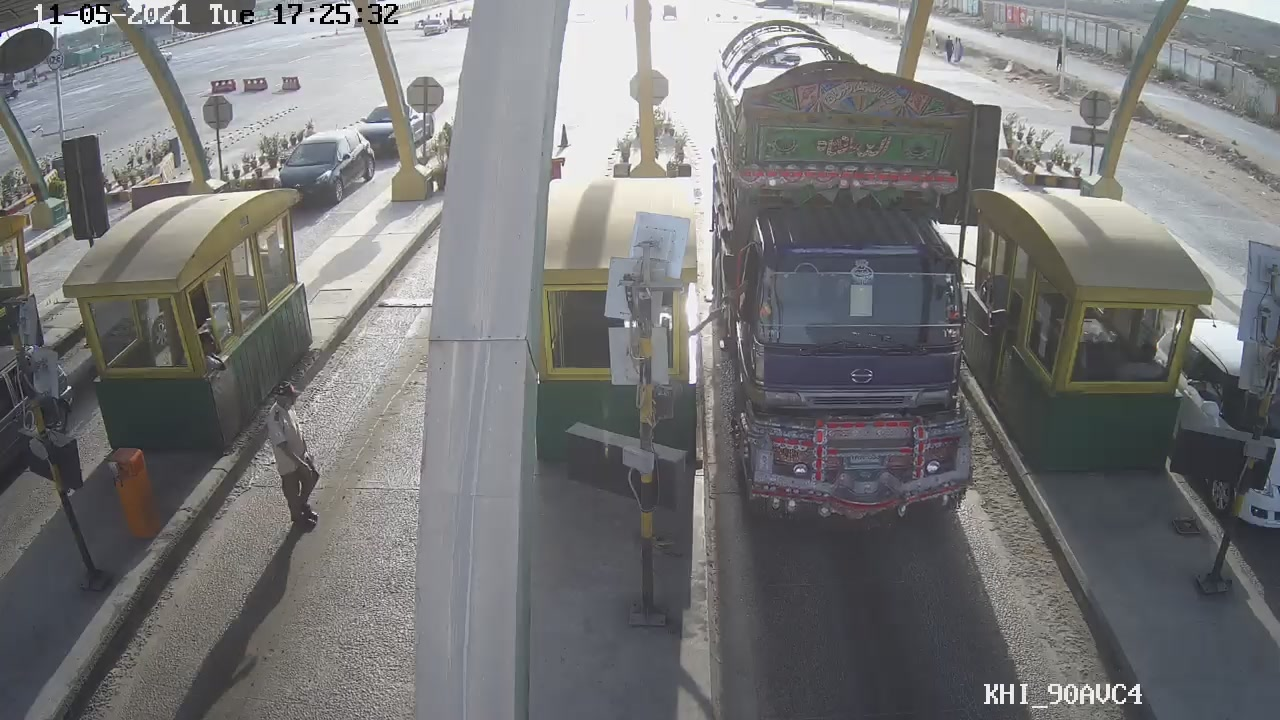F5: (685, 28, 986, 542)
